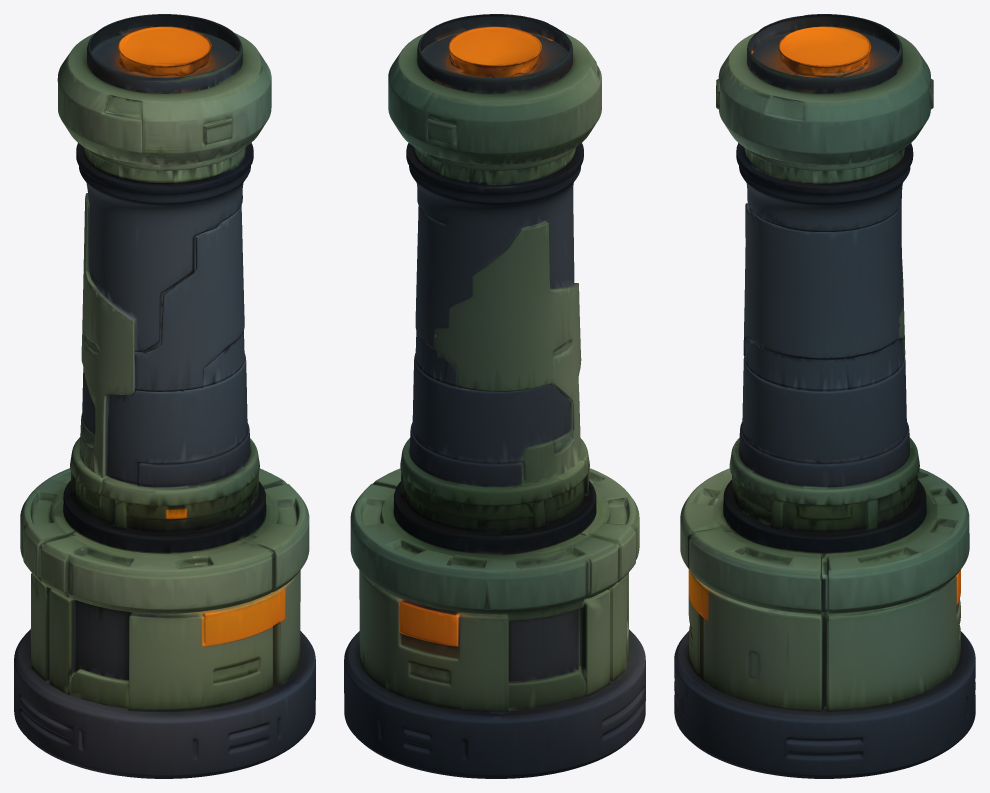
The model's file is 群伤塔.glb.
The picture shows the model from 3 angles, left to right: view 1: azimuth 30°, elevation 25°; view 2: azimuth 150°, elevation 25°; view 3: azimuth 270°, elevation 25°; orthographic projection.
Parts seen in each view (by area): view 1: node_0; view 2: node_0; view 3: node_0.
Boxes of the visible parts, box(x1,y1,x2,y2) form: node_0: box(14, 14, 315, 778); node_0: box(344, 14, 645, 778); node_0: box(674, 14, 975, 778).
Bounding box in the file's own units: 0.4542 × 1.12 × 0.4547.
1 material, 1 textured.
